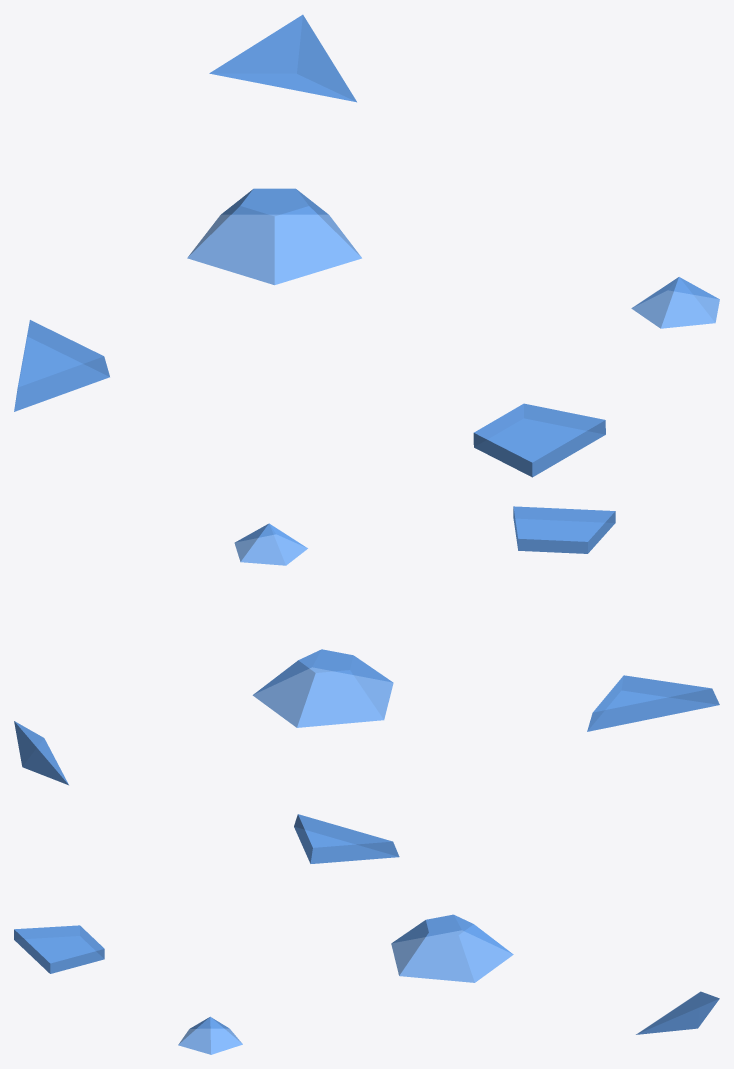
Rendered from Crystals_s_01 2.fbx.
The picture shows the model from 3 angles, top to bottom: view 1: azimuth 30°, elevation 25°; view 2: azimuth 150°, elevation 25°; view 3: azimuth 270°, elevation 25°; orthographic projection. The views are drawn at different scales.
Visible parts, largest first — view 1: Crystals_s_01; view 2: Crystals_s_01; view 3: Crystals_s_01.
Boxes of the visible parts, <box> form: Crystals_s_01: <box>14,14,719,477</box>; Crystals_s_01: <box>14,506,719,785</box>; Crystals_s_01: <box>14,814,719,1054</box>.
Bounding box in the file's own units: 71.28 × 5.95 × 94.06.
